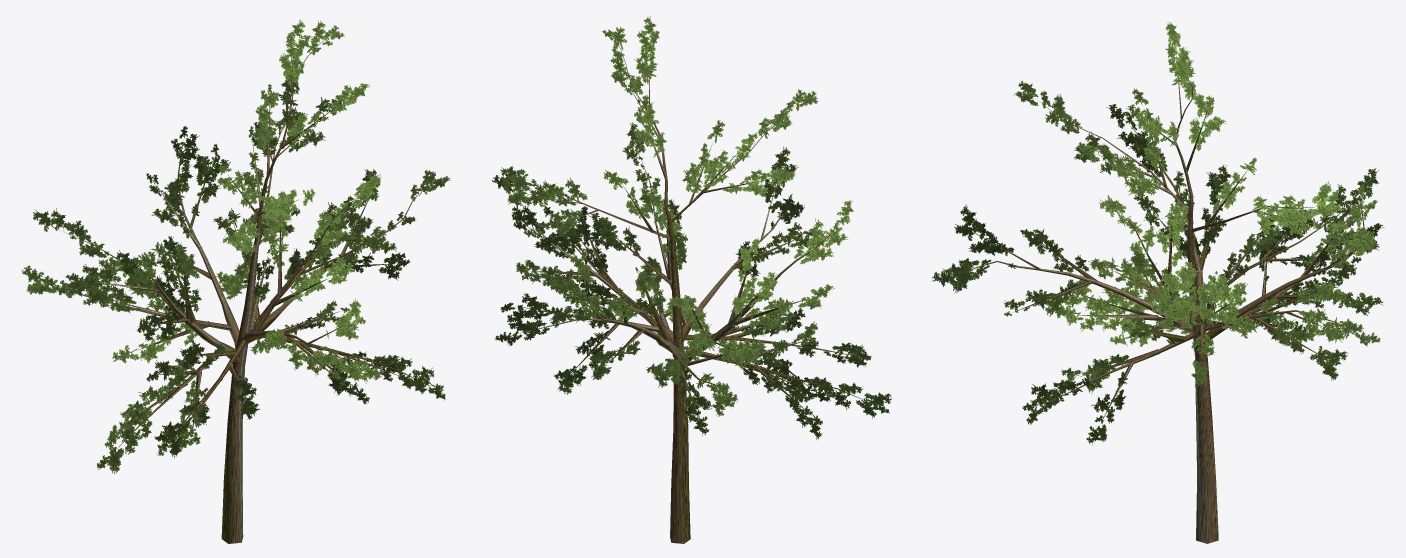
Rendered from eztree-street-young.glb.
3 views of the same model, side by side, from view 1: azimuth 30°, elevation 25°; view 2: azimuth 150°, elevation 25°; view 3: azimuth 270°, elevation 25° (orthographic). The views are drawn at different scales.
Parts seen in each view (by area): view 1: LOD0; view 2: LOD0; view 3: LOD0.
Part boxes in pixels (left/top/right/bottom): LOD0: left=21, top=20, right=450, bottom=543; LOD0: left=491, top=16, right=891, bottom=543; LOD0: left=932, top=21, right=1384, bottom=543.
Size of what is drawn, in the model's own units: 5.44 by 7 by 5.42.
Materials: 2 (2 with a texture image).
